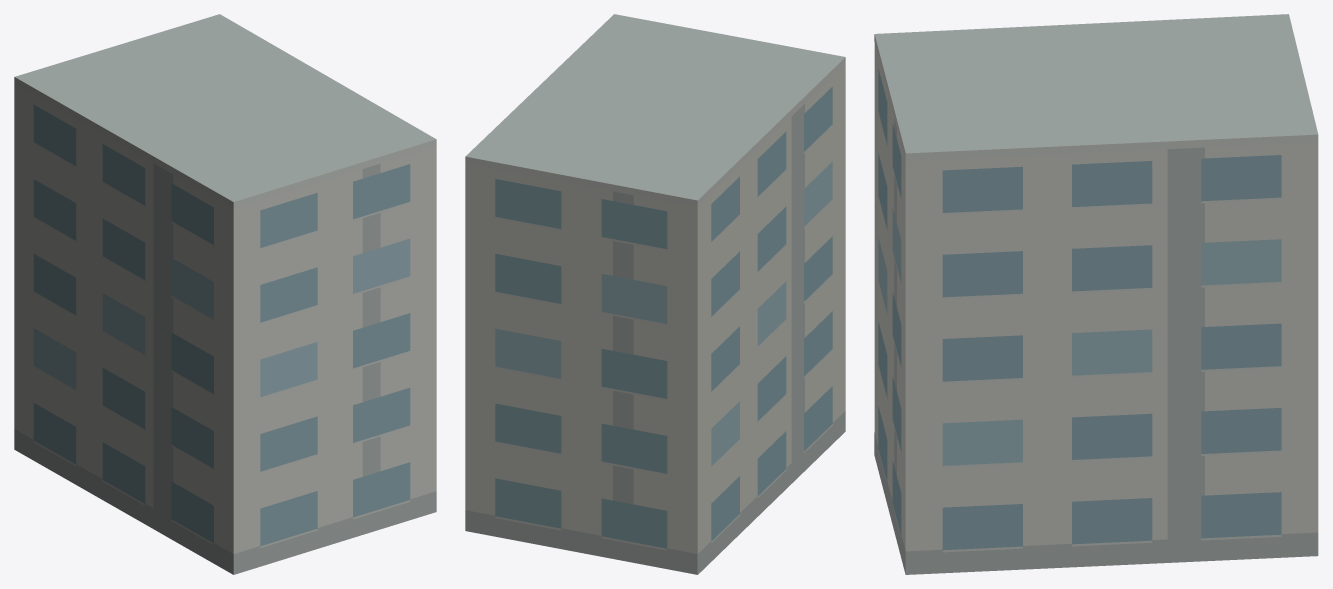
The model's file is survey-upis-32886866.glb.
3 renders of one model, left to right at view 1: azimuth 30°, elevation 25°; view 2: azimuth 150°, elevation 25°; view 3: azimuth 270°, elevation 25°, orthographic. The views are drawn at different scales.
Parts seen in each view (by area): view 1: survey-upis-32886866.tmp; view 2: survey-upis-32886866.tmp; view 3: survey-upis-32886866.tmp.
Boxes of the visible parts, left/top/right/bottom form: survey-upis-32886866.tmp: left=14, top=14, right=436, bottom=574; survey-upis-32886866.tmp: left=465, top=14, right=845, bottom=574; survey-upis-32886866.tmp: left=874, top=14, right=1318, bottom=574.
Bounding box in the file's own units: 9.37 × 13.2 × 12.61.
